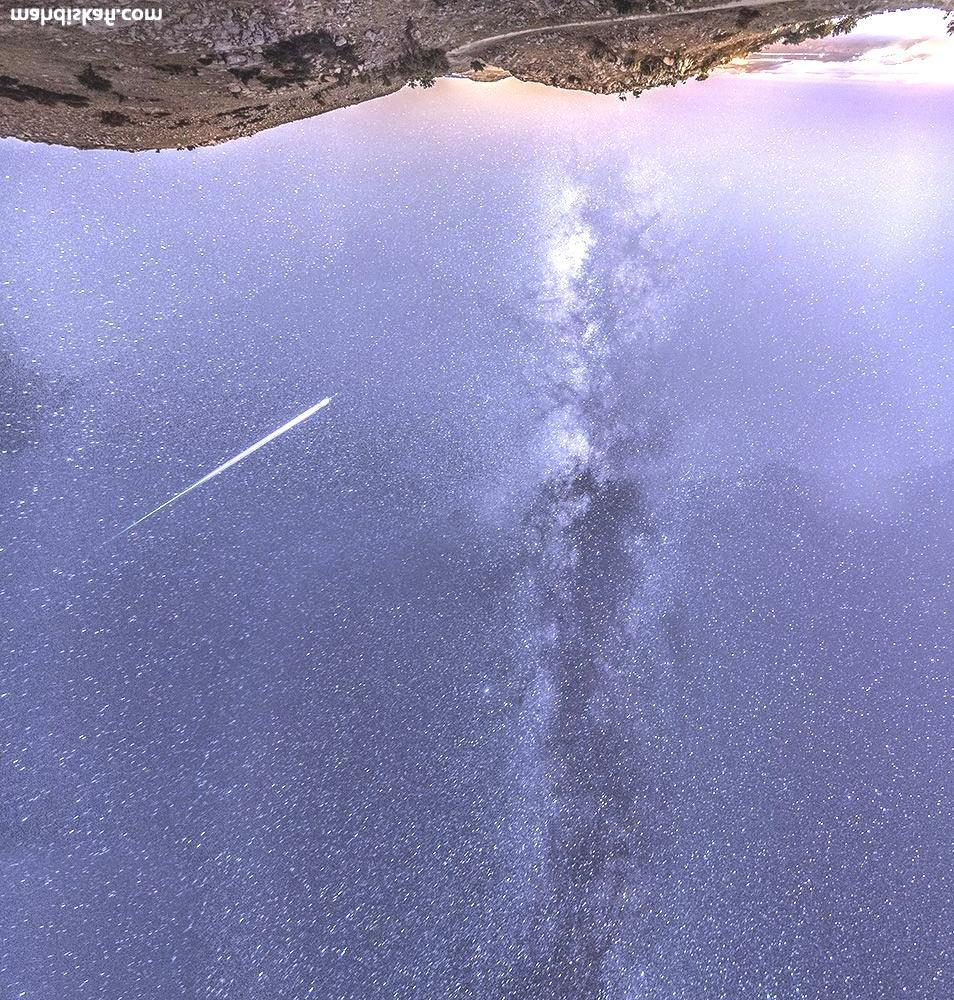meteorite: (104, 374, 362, 541)
